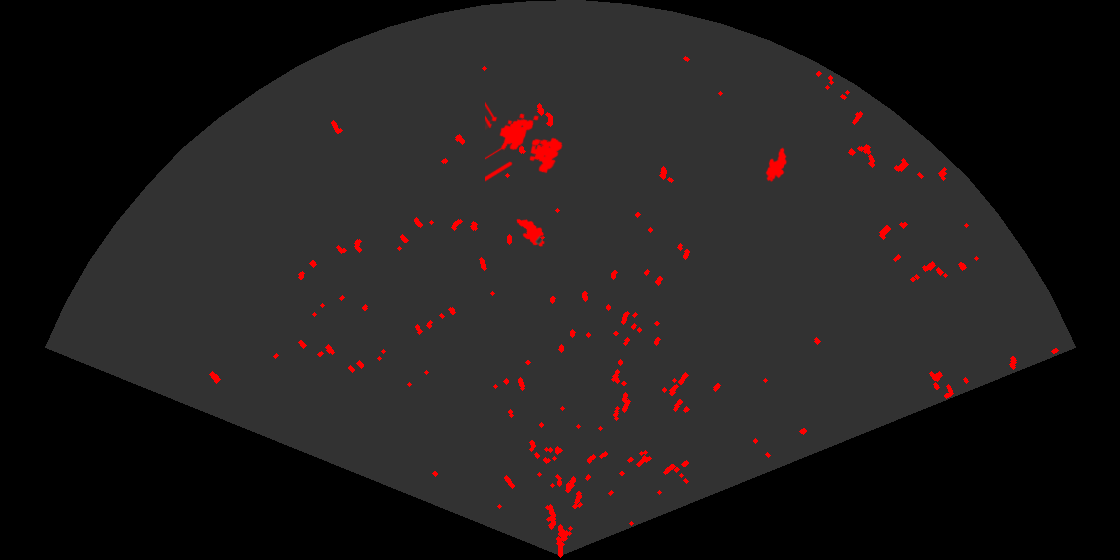AUV: (515, 217, 546, 248), (764, 146, 789, 184)
cage: (485, 100, 564, 183)
